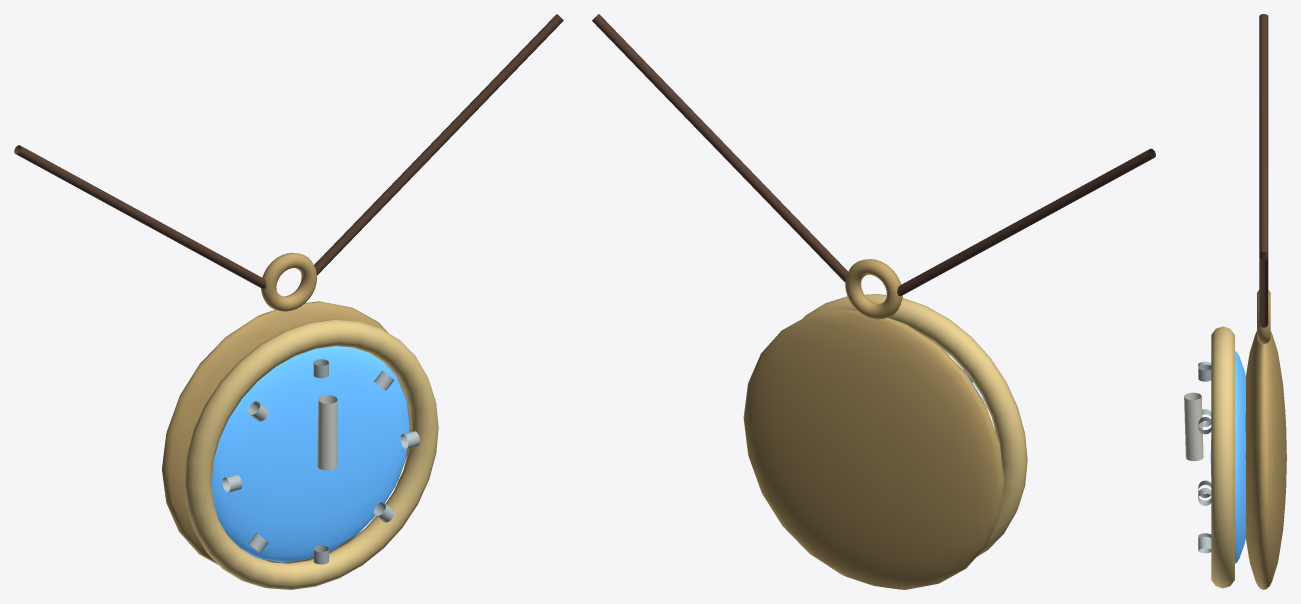
File: Lyra_WaterPendant_REVIEW.glb
3 views of the same model, side by side, from view 1: azimuth 30°, elevation 25°; view 2: azimuth 150°, elevation 25°; view 3: azimuth 270°, elevation 25° (orthographic). The views are drawn at different scales.
Parts seen in each view (by area): view 1: WaterPendant; view 2: WaterPendant; view 3: WaterPendant.
Boxes of the visible parts, box(x1,y1,x2,y2) form: WaterPendant: box(14, 14, 563, 589); WaterPendant: box(592, 14, 1155, 589); WaterPendant: box(1184, 14, 1286, 589).
Size of the model in its own units: 0.323 by 0.277 by 0.058.
